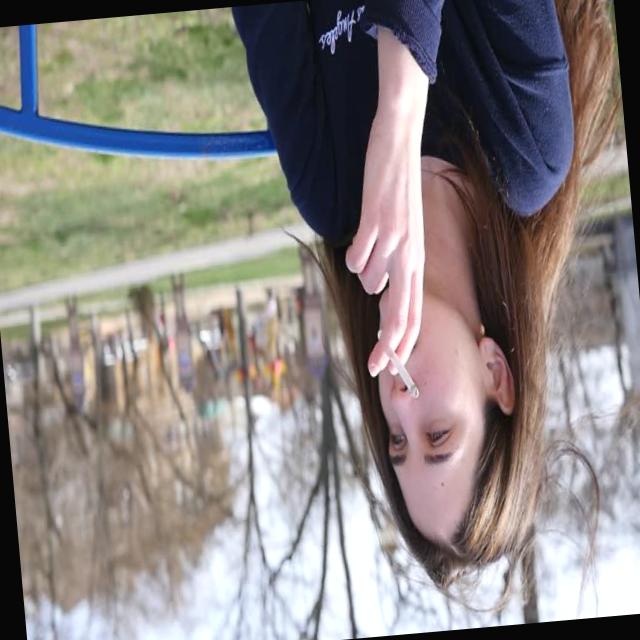smoke: (367, 318, 428, 425)
